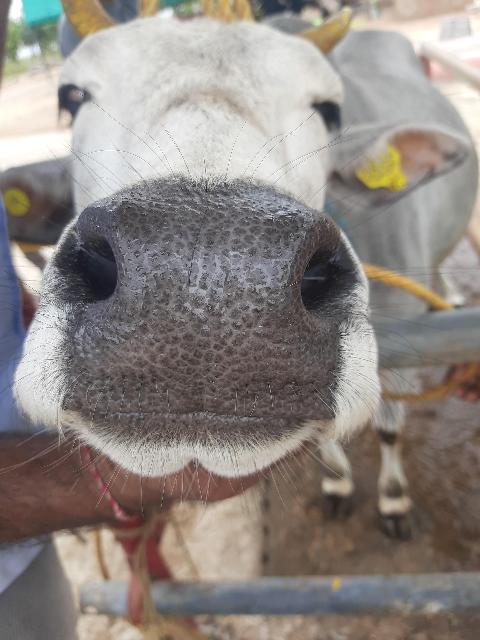Muzzle: (107, 194, 310, 430)
